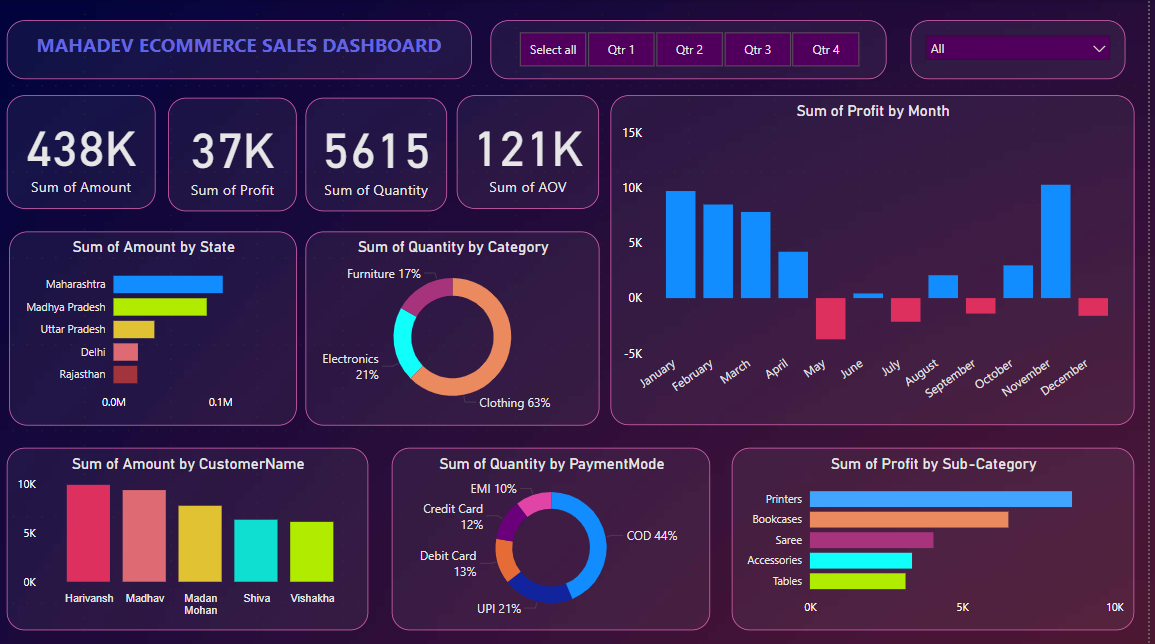

What the dashboard file says about the page in this screenshot:
{"tool":"powerbi","page":{"name":"Page 1","canvas":[1280,720],"ordinal":0},"visuals":[{"type":"columnChart","fields":{"Y":["Details.Profit"],"Category":["Orders.Order Date.Variation.Date Hierarchy.Month"]},"box":[681.7,107.1,583,367.3],"z":0},{"type":"textbox","box":[9.7,23.7,517.6,65.4],"z":1000},{"type":"barChart","fields":{"Category":["Details.Sub-Category"],"Y":["Details.Profit"]},"box":[816.7,499.5,448,203.1],"z":2000},{"type":"donutChart","fields":{"Category":["Details.Category"],"Y":["Details.Quantity"]},"box":[342.3,258.8,327,215.7],"z":3000},{"type":"donutChart","fields":{"Y":["Details.Quantity"],"Category":["Details.PaymentMode"]},"box":[438.3,499.5,354.8,203.1],"z":4000},{"type":"card","fields":{"Values":["Details.Amount"]},"box":[9.7,107.1,165.6,126.6],"z":5000},{"type":"card","fields":{"Values":["Details.Profit"]},"box":[189.2,109.9,143.3,126.6],"z":6000},{"type":"card","fields":{"Values":["Details.Quantity"]},"box":[342.3,109.9,157.2,126.6],"z":7000},{"type":"card","fields":{"Values":["Details.AOV"]},"box":[510.6,107.1,158.6,126.6],"z":8000},{"type":"barChart","fields":{"Category":["Orders.State"],"Y":["Details.Amount"]},"box":[12.5,258.8,320,215.7],"z":8001},{"type":"columnChart","fields":{"Category":["Orders.CustomerName"],"Y":["Details.Amount"]},"box":[9.7,499.5,402.1,203.1],"z":8002},{"type":"slicer","fields":{"Values":["Orders.Order Date.Variation.Date Hierarchy.Quarter"]},"box":[548.2,23.7,441,65.4],"z":8003},{"type":"slicer","fields":{"Values":["Orders.State"]},"box":[1015.7,23.7,239.3,65.4],"z":8004}]}

Visuals, with their boxes in screenshot pixels (x1, y1, x2, y2), scaled from the page's 1280x720 canvas onto the 1155x644 screenshot:
columnChart - Details.Profit x Orders.Order Date.Variation.Date Hierarchy.Month: {"x1": 615, "y1": 96, "x2": 1141, "y2": 424}
textbox: {"x1": 9, "y1": 21, "x2": 476, "y2": 80}
barChart - Details.Sub-Category x Details.Profit: {"x1": 737, "y1": 447, "x2": 1141, "y2": 628}
donutChart - Details.Category x Details.Quantity: {"x1": 309, "y1": 231, "x2": 604, "y2": 424}
donutChart - Details.Quantity x Details.PaymentMode: {"x1": 395, "y1": 447, "x2": 716, "y2": 628}
card - Details.Amount: {"x1": 9, "y1": 96, "x2": 158, "y2": 209}
card - Details.Profit: {"x1": 171, "y1": 98, "x2": 300, "y2": 212}
card - Details.Quantity: {"x1": 309, "y1": 98, "x2": 451, "y2": 212}
card - Details.AOV: {"x1": 461, "y1": 96, "x2": 604, "y2": 209}
barChart - Orders.State x Details.Amount: {"x1": 11, "y1": 231, "x2": 300, "y2": 424}
columnChart - Orders.CustomerName x Details.Amount: {"x1": 9, "y1": 447, "x2": 372, "y2": 628}
slicer - Orders.Order Date.Variation.Date Hierarchy.Quarter: {"x1": 495, "y1": 21, "x2": 893, "y2": 80}
slicer - Orders.State: {"x1": 917, "y1": 21, "x2": 1132, "y2": 80}
